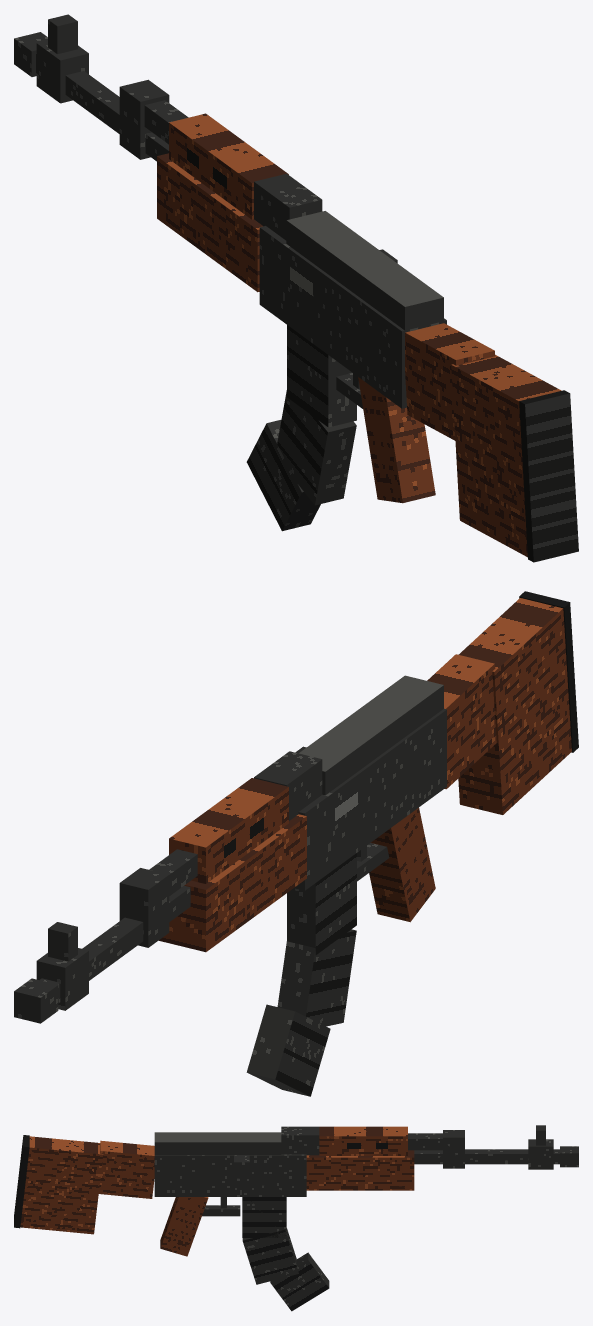
The picture shows the model from 3 angles, top to bottom: view 1: azimuth 30°, elevation 25°; view 2: azimuth 150°, elevation 25°; view 3: azimuth 270°, elevation 25°; orthographic projection. The views are drawn at different scales.
Visible parts, largest first — view 1: stock_butt, receiver, butt_plate, dust_cover, lower_guard, upper_guard, pistol_grip, stock_wrist, magazine_mid, magazine_top, magazine_low, rear_sight (+6 smaller); view 2: stock_butt, receiver, lower_guard, dust_cover, upper_guard, stock_wrist, magazine_mid, magazine_low, pistol_grip, magazine_top, gas_block, barrel (+7 smaller); view 3: stock_butt, receiver, lower_guard, dust_cover, stock_wrist, upper_guard, magazine_mid, pistol_grip, magazine_top, magazine_low, barrel, rear_sight (+7 smaller).
Boxes of the visible parts, x1=… form: stock_butt: x1=451, y1=355, x2=561, y2=556; receiver: x1=259, y1=226, x2=446, y2=408; butt_plate: x1=519, y1=390, x2=578, y2=562; dust_cover: x1=286, y1=211, x2=443, y2=330; lower_guard: x1=157, y1=153, x2=262, y2=292; upper_guard: x1=169, y1=113, x2=288, y2=219; pistol_grip: x1=358, y1=377, x2=435, y2=503; stock_wrist: x1=405, y1=323, x2=495, y2=440; magazine_mid: x1=277, y1=390, x2=356, y2=505; magazine_top: x1=287, y1=325, x2=356, y2=427; magazine_low: x1=246, y1=420, x2=320, y2=531; rear_sight: x1=254, y1=173, x2=322, y2=240; stock_butt: x1=458, y1=598, x2=571, y2=814; receiver: x1=294, y1=708, x2=446, y2=890; lower_guard: x1=159, y1=814, x2=306, y2=952; dust_cover: x1=299, y1=675, x2=443, y2=795; upper_guard: x1=169, y1=778, x2=288, y2=883; stock_wrist: x1=427, y1=654, x2=496, y2=789; magazine_mid: x1=277, y1=929, x2=356, y2=1026; magazine_low: x1=246, y1=1004, x2=330, y2=1096; pistol_grip: x1=369, y1=807, x2=435, y2=922; magazine_top: x1=287, y1=853, x2=356, y2=954; gas_block: x1=119, y1=868, x2=169, y2=947; barrel: x1=39, y1=885, x2=190, y2=1003; stock_butt: x1=20, y1=1136, x2=103, y2=1234; receiver: x1=154, y1=1154, x2=306, y2=1196; lower_guard: x1=306, y1=1150, x2=414, y2=1190; dust_cover: x1=154, y1=1132, x2=281, y2=1154; stock_wrist: x1=98, y1=1140, x2=154, y2=1198; upper_guard: x1=319, y1=1126, x2=407, y2=1155; magazine_mid: x1=242, y1=1228, x2=298, y2=1284; pistol_grip: x1=160, y1=1197, x2=208, y2=1256; magazine_top: x1=242, y1=1197, x2=286, y2=1237; magazine_low: x1=270, y1=1252, x2=329, y2=1311; barrel: x1=414, y1=1149, x2=559, y2=1164; rear_sight: x1=281, y1=1126, x2=319, y2=1155.
Size of the model in its own units: 0.07 by 0.3131 by 0.8924.
Materials: 1 (1 with a texture image).
